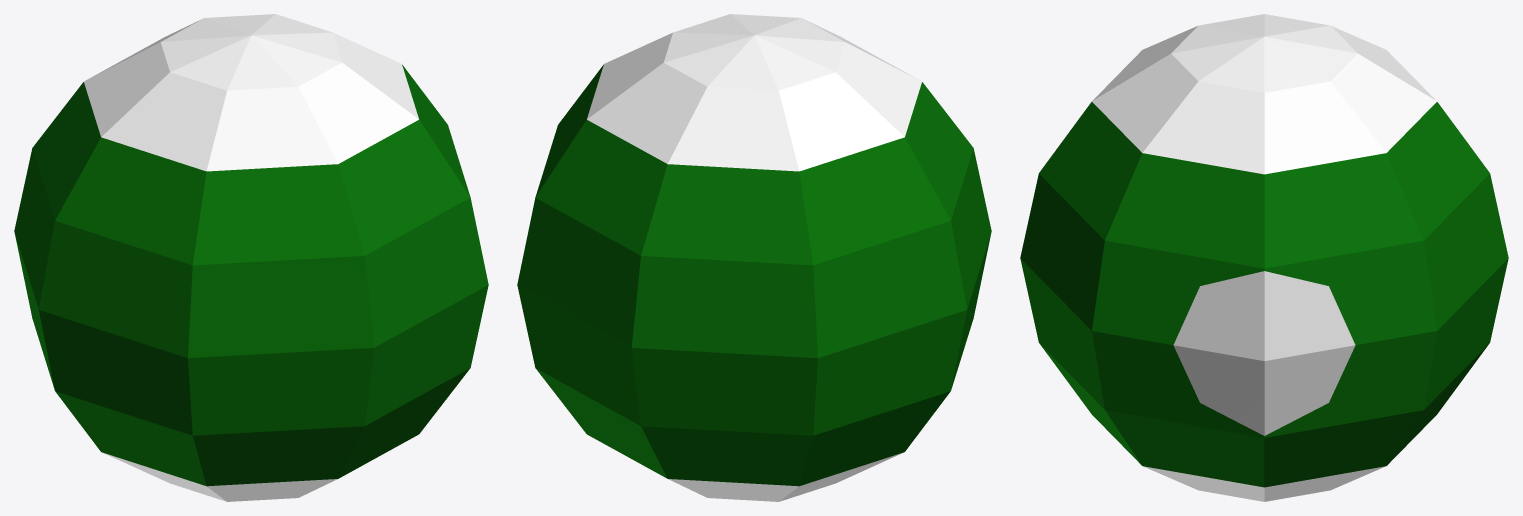
File: verde2.obj
3 views of the same model, side by side, from view 1: azimuth 30°, elevation 25°; view 2: azimuth 150°, elevation 25°; view 3: azimuth 270°, elevation 25° (orthographic).
Parts seen in each view (by area): view 1: all_balls.010; view 2: all_balls.010; view 3: all_balls.010.
Boxes of the visible parts, box(x1,y1,x2,y2) form: all_balls.010: box(14, 14, 488, 501); all_balls.010: box(517, 14, 991, 501); all_balls.010: box(1020, 14, 1508, 501).
Size of the model in its own units: 0.3459 by 0.3459 by 0.3459.
